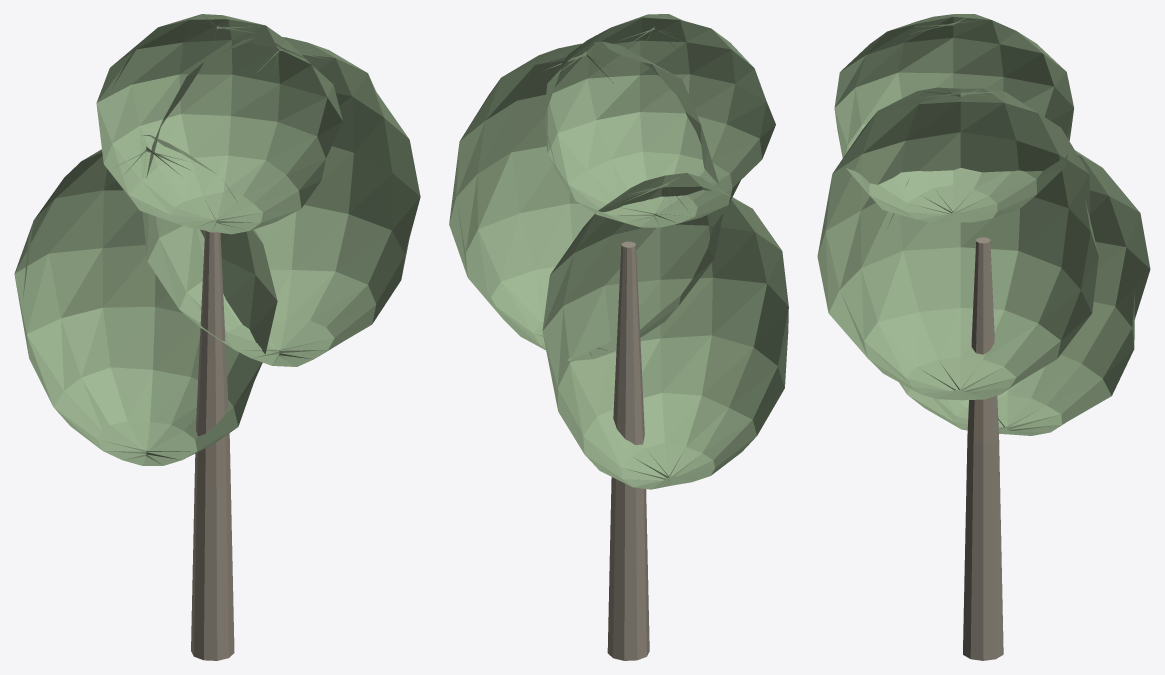
Rendered from tree-b.glb.
3 views of the same model, side by side, from view 1: azimuth 30°, elevation 25°; view 2: azimuth 150°, elevation 25°; view 3: azimuth 270°, elevation 25° (orthographic). The views are drawn at different scales.
Visible parts, largest first — view 1: VEG_FOLIAGE, VEG_TRUNK; view 2: VEG_FOLIAGE, VEG_TRUNK; view 3: VEG_FOLIAGE, VEG_TRUNK.
Boxes of the visible parts, bbox=[...] form: VEG_FOLIAGE: bbox=[14, 14, 420, 465]; VEG_TRUNK: bbox=[191, 230, 234, 660]; VEG_FOLIAGE: bbox=[449, 14, 788, 489]; VEG_TRUNK: bbox=[607, 241, 649, 660]; VEG_FOLIAGE: bbox=[817, 14, 1150, 435]; VEG_TRUNK: bbox=[963, 237, 1003, 660].
Size of the model in its own units: 2.66 by 5 by 2.42.
